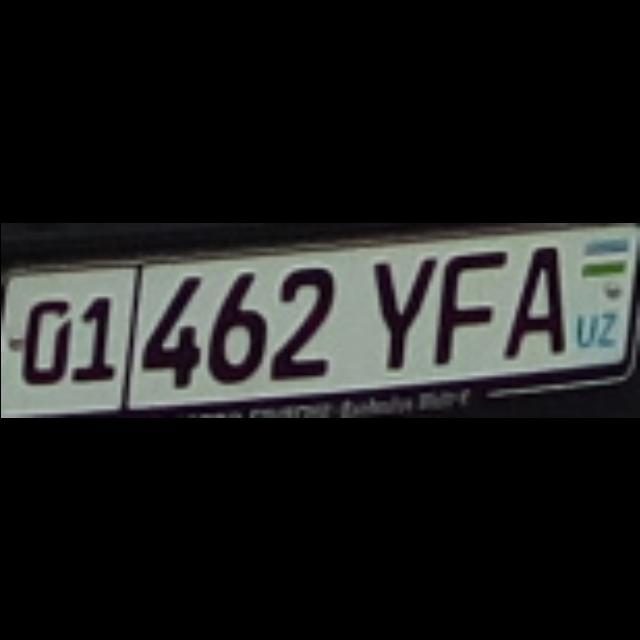0: (12, 296, 66, 379)
1: (66, 292, 108, 376)
2: (262, 264, 328, 376)
4: (133, 272, 195, 384)
6: (200, 264, 258, 380)
A: (495, 239, 557, 351)
F: (428, 247, 502, 363)
Y: (366, 251, 428, 363)
